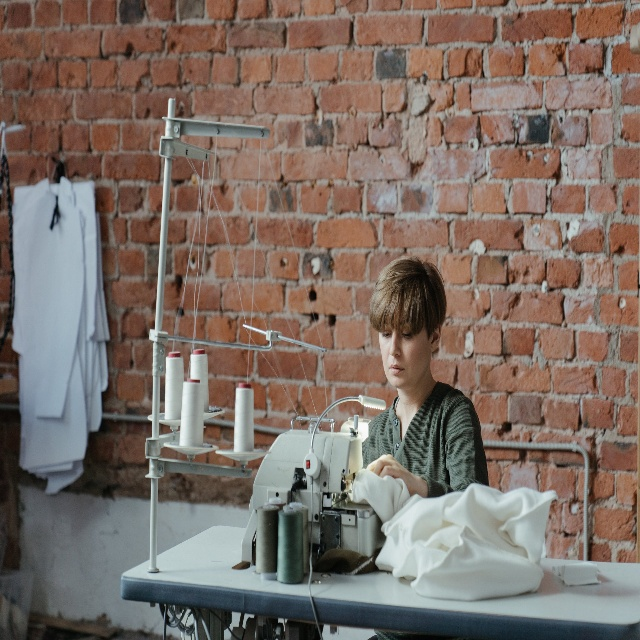Sin_guantes: (366, 453, 414, 495)
